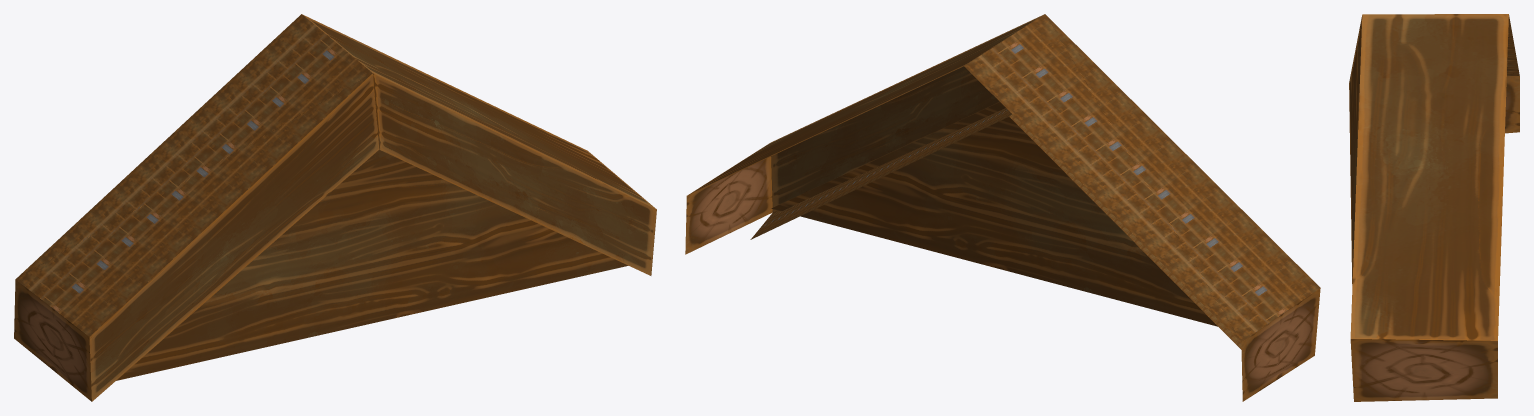
3 renders of one model, left to right at view 1: azimuth 30°, elevation 25°; view 2: azimuth 150°, elevation 25°; view 3: azimuth 270°, elevation 25°, orthographic. The views are drawn at different scales.
Parts seen in each view (by area): view 1: Cube.508; view 2: Cube.508; view 3: Cube.508.
Part boxes in pixels (<box>): Cube.508: <box>14,14,656,401</box>; Cube.508: <box>685,14,1320,401</box>; Cube.508: <box>1349,14,1519,401</box>.
Size of the model in its own units: 191 by 87.51 by 51.78.
1 material, 1 textured.
